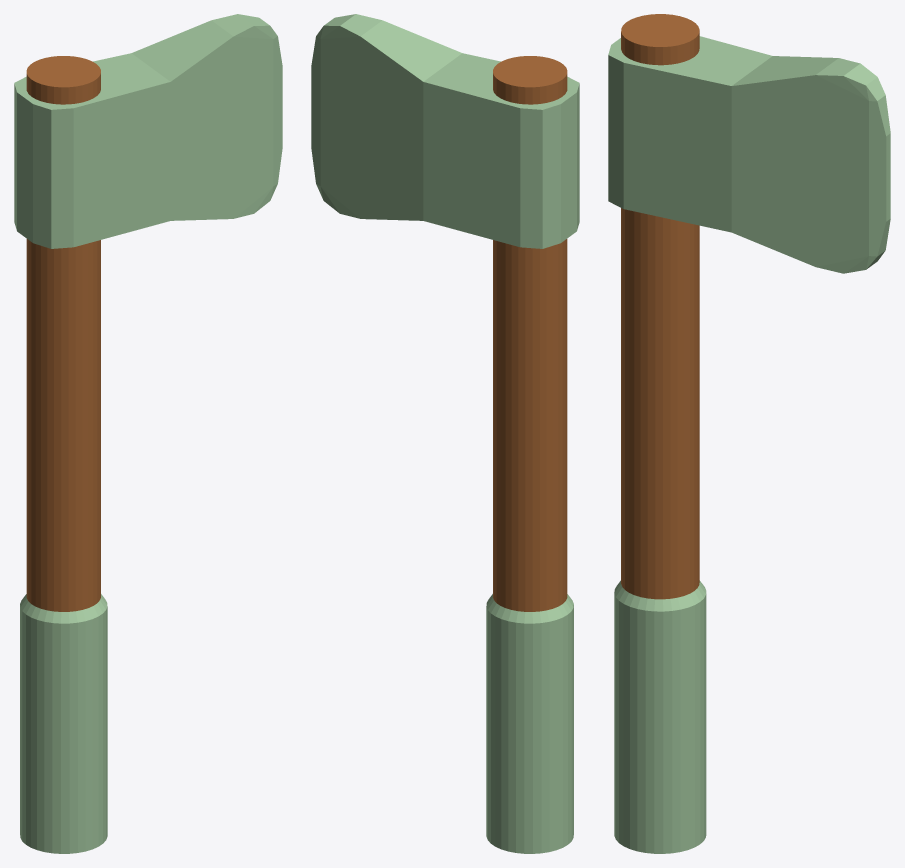
File: axe.fbx
3 views of the same model, side by side, from view 1: azimuth 30°, elevation 25°; view 2: azimuth 150°, elevation 25°; view 3: azimuth 330°, elevation 25° (orthographic). The views are drawn at different scales.
Parts seen in each view (by area): view 1: Cube; view 2: Cube; view 3: Cube.
Boxes of the visible parts, bbox=[...] form: Cube: bbox=[14, 14, 282, 853]; Cube: bbox=[311, 14, 579, 853]; Cube: bbox=[608, 14, 890, 853].
Size of the model in its own units: 113 by 327 by 34.5.
